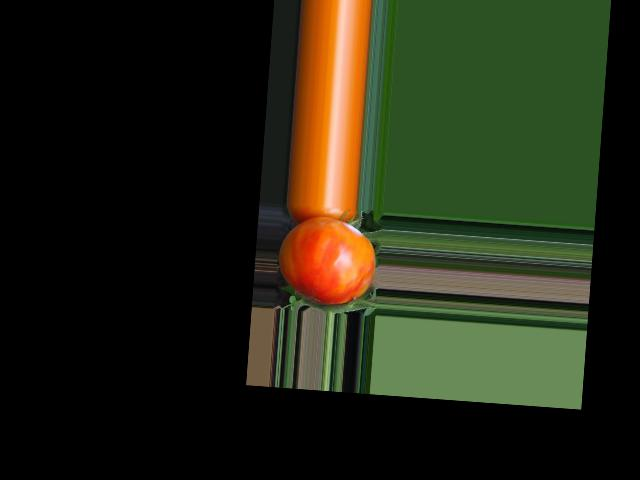tomato: (275, 214, 378, 307)
